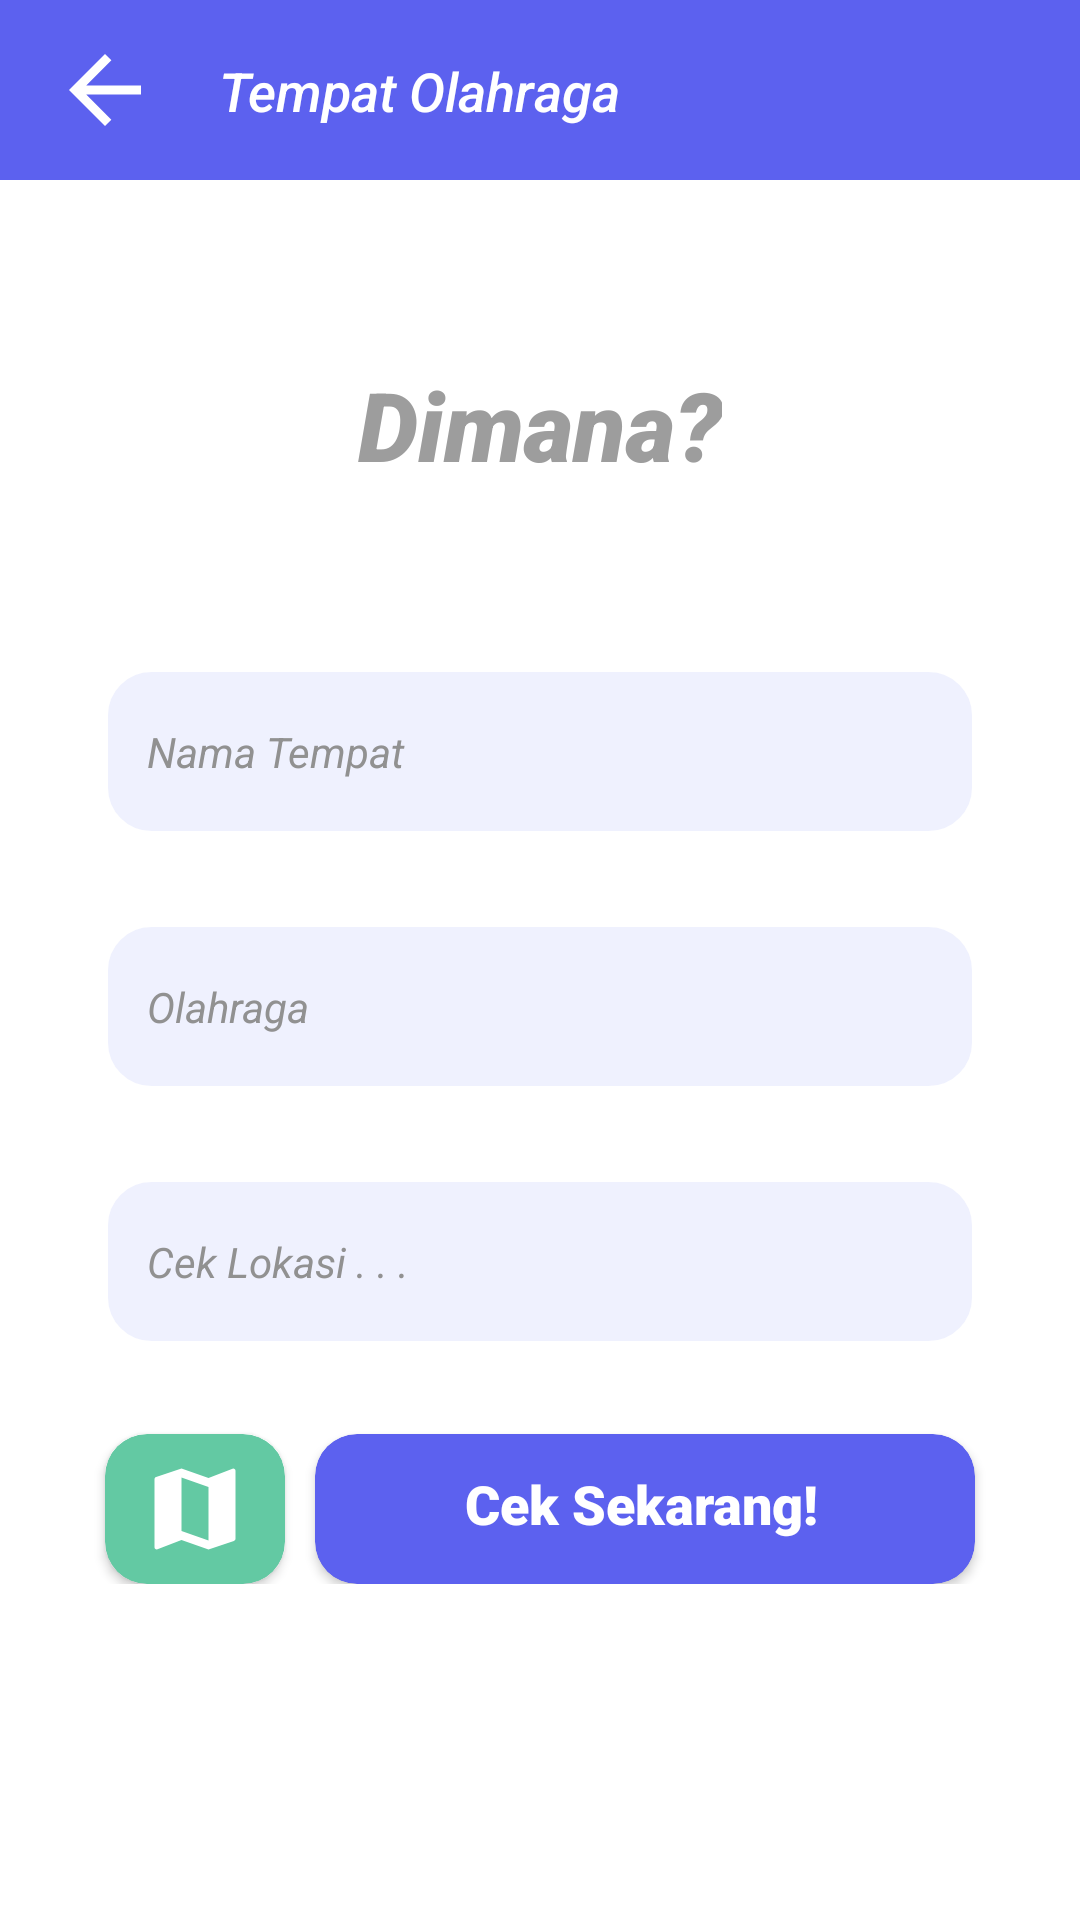

Icon bounding boxes for this 1080×1920 phone screenshot, format (x1, y1, x2, y2):
back: (69, 54, 141, 126)
map: (154, 1468, 236, 1550)
